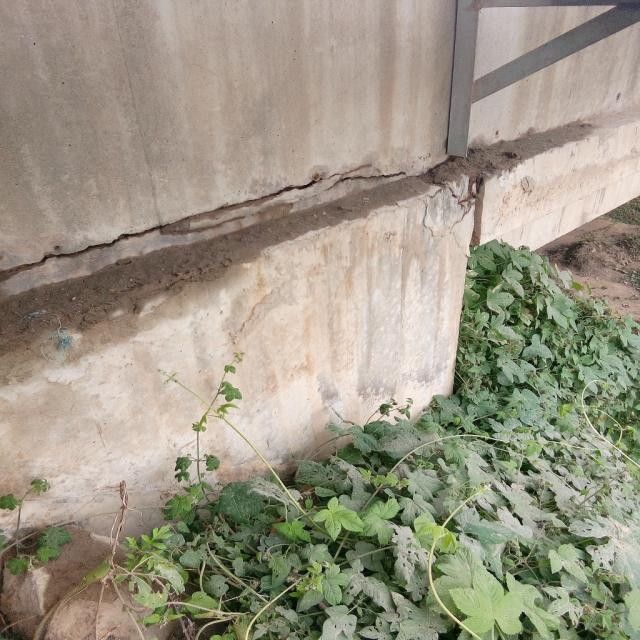cracks: (0, 149, 431, 314), (420, 153, 640, 257), (52, 258, 248, 340), (212, 275, 299, 386)
